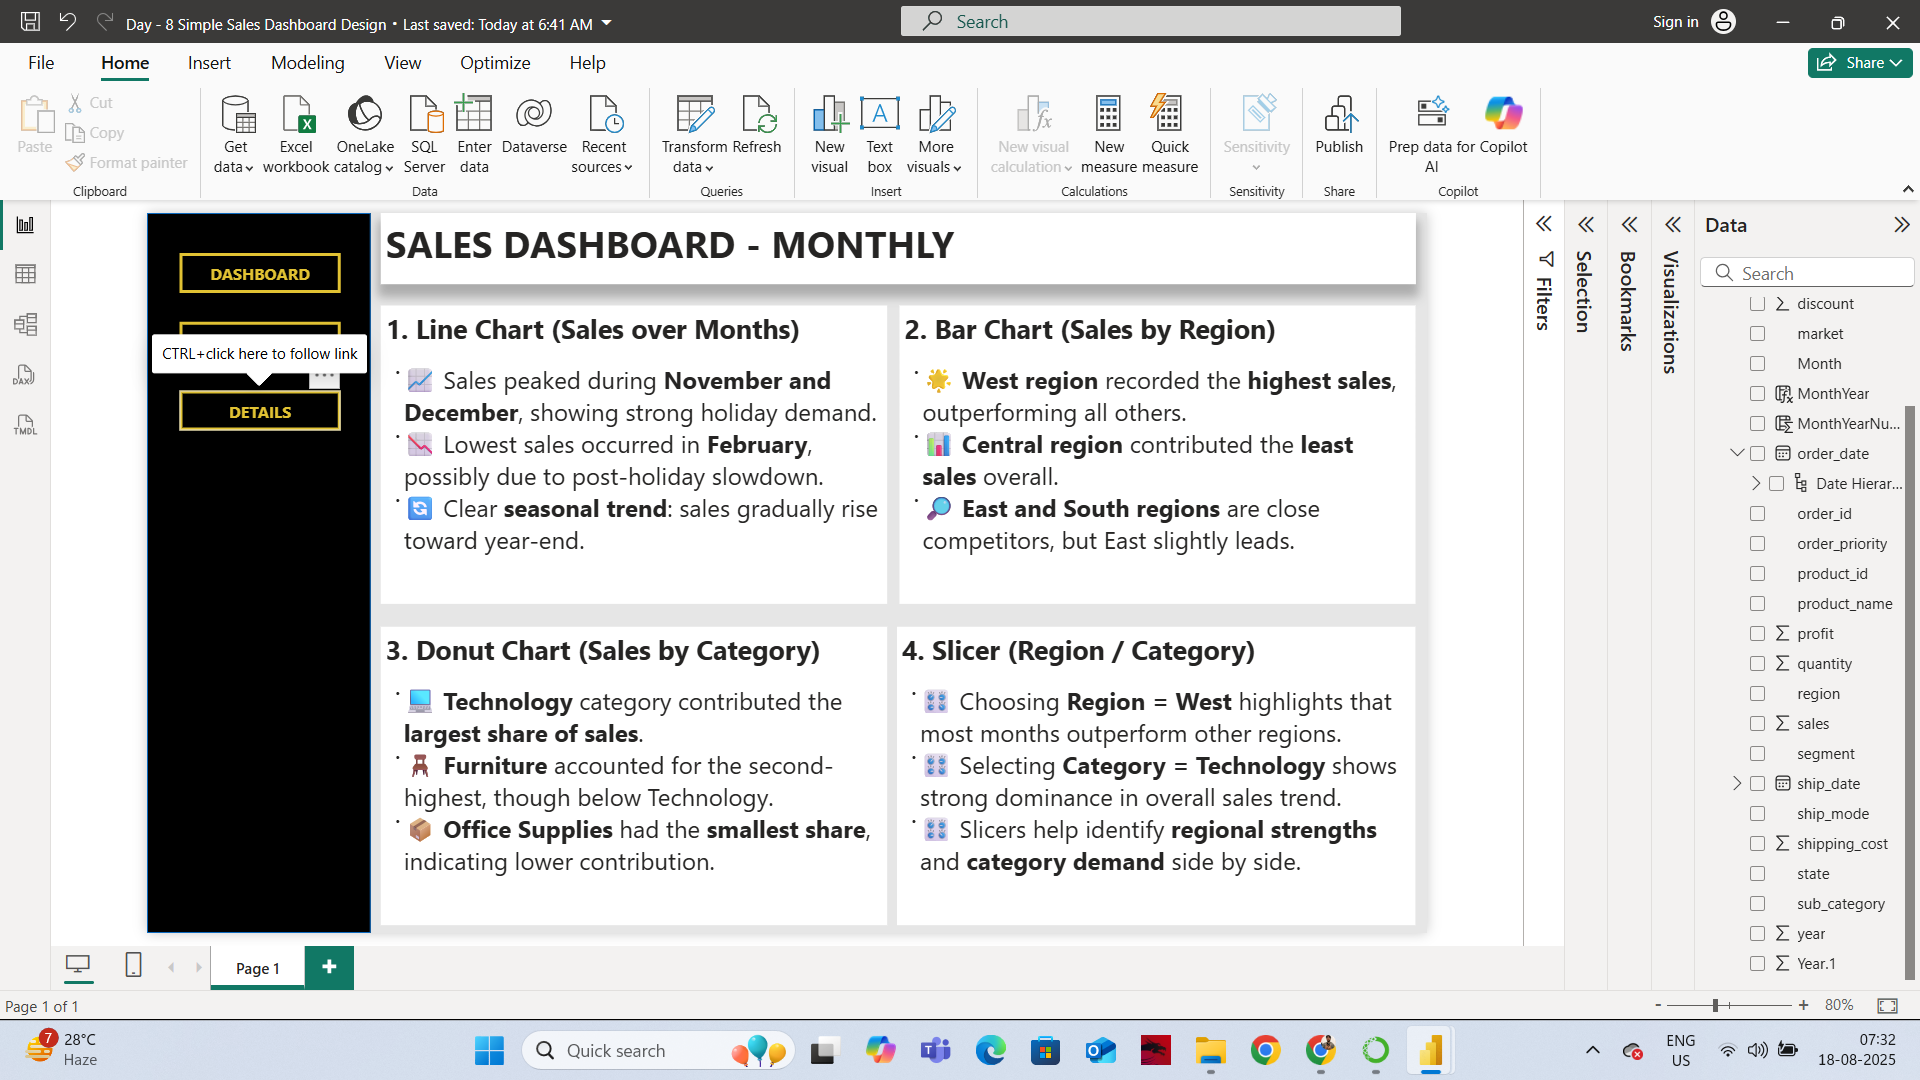

The dashboard page shown, as its layout file describes it:
{"tool":"powerbi","page":{"name":"Page 1","canvas":[1280,720],"ordinal":0},"visuals":[{"type":"shape","box":[0,0,223.8,720],"z":0},{"type":"actionButton","box":[32.5,40,161.2,40],"z":1000},{"type":"actionButton","box":[32.5,108.8,161.2,40],"z":2000},{"type":"textbox","box":[233.8,0,1035,71.2],"z":3000},{"type":"actionButton","box":[32.5,177.5,161.2,40],"z":4000},{"type":"textbox","box":[233.8,413.8,506.2,298.8],"z":7000},{"type":"textbox","box":[233.8,92.5,506.2,298.8],"z":8000},{"type":"textbox","box":[750,413.8,518.8,298.8],"z":9000},{"type":"textbox","box":[752.5,92.5,516.2,298.8],"z":10000}]}

Visuals, with their boxes on the page's 1280x720 design canvas (x1, y1, x2, y2). These are canvas units, not pixel positions in the 1920x1080 screenshot, which may show the page scaled, cropped or inside an application window:
shape: 0/0/224/720
actionButton: 32/40/194/80
actionButton: 32/109/194/149
textbox: 234/0/1269/71
actionButton: 32/178/194/218
textbox: 234/414/740/713
textbox: 234/92/740/391
textbox: 750/414/1269/713
textbox: 752/92/1269/391
